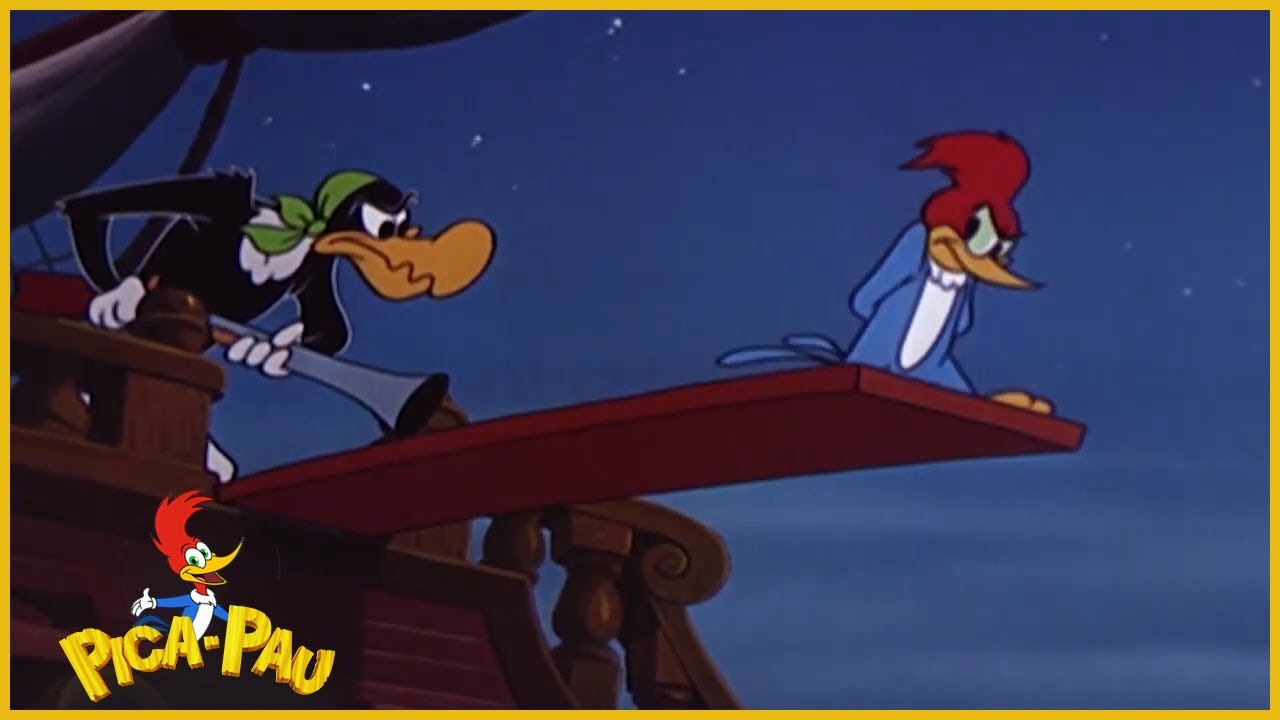picapau: (752, 117, 1136, 476)
urubu: (83, 122, 506, 448)
